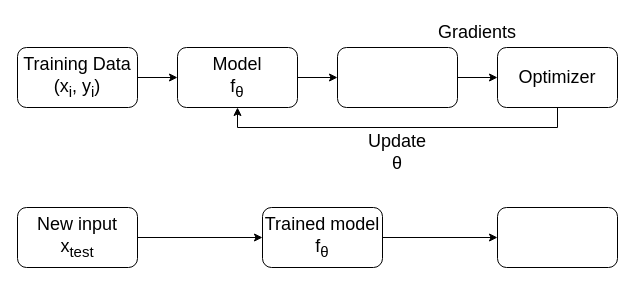
The diagram is 635 pixels wide and 285 high, and some of its shapes have lost their labels. The shapes that lost their labels are listed below. From the top down, each one's centre as x and y in pixels, then its label:
the point at 397,77: Loss ℒ (f θ (x i ), y i )
the point at 557,237: Prediction ŷ
